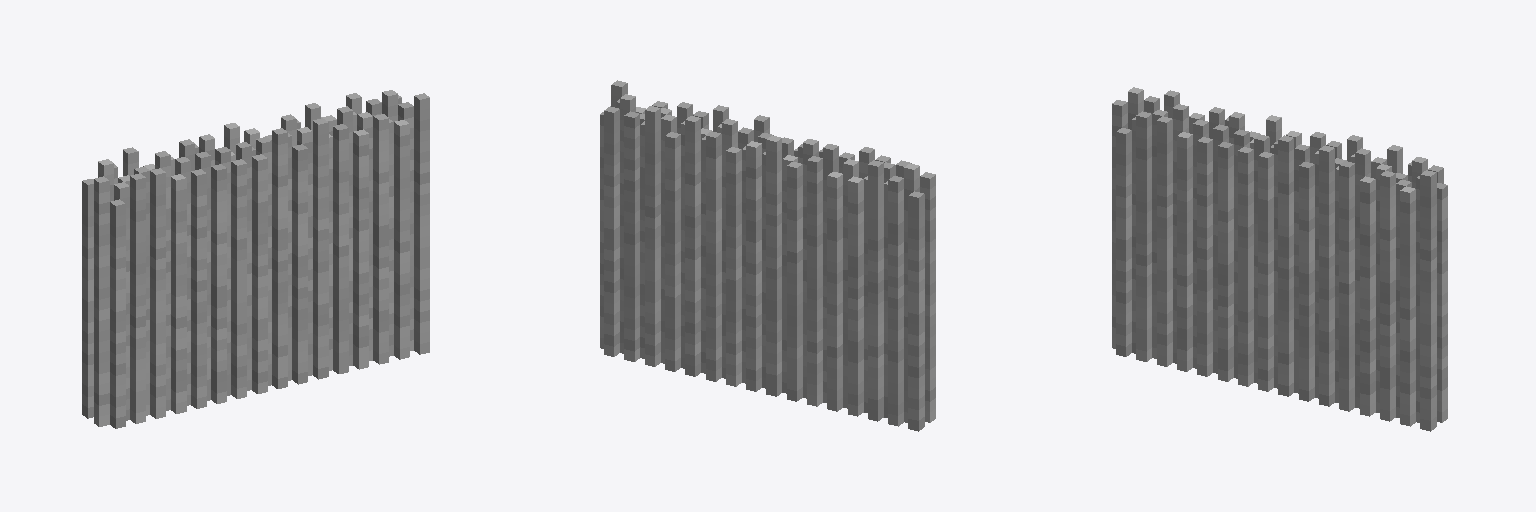
3 renders of one model, left to right at view 1: azimuth 30°, elevation 25°; view 2: azimuth 150°, elevation 25°; view 3: azimuth 330°, elevation 25°, orthographic.
Parts seen in each view (by area): view 1: object 1; view 2: object 1; view 3: object 1.
Boxes of the visible parts, x1,y1,x2,y2 form: object 1: [82, 90, 429, 428]; object 1: [600, 80, 935, 431]; object 1: [1112, 87, 1447, 431].
Size of the model in its own units: 3.2 by 2.4 by 0.4.
Materials: 1 (1 with a texture image).